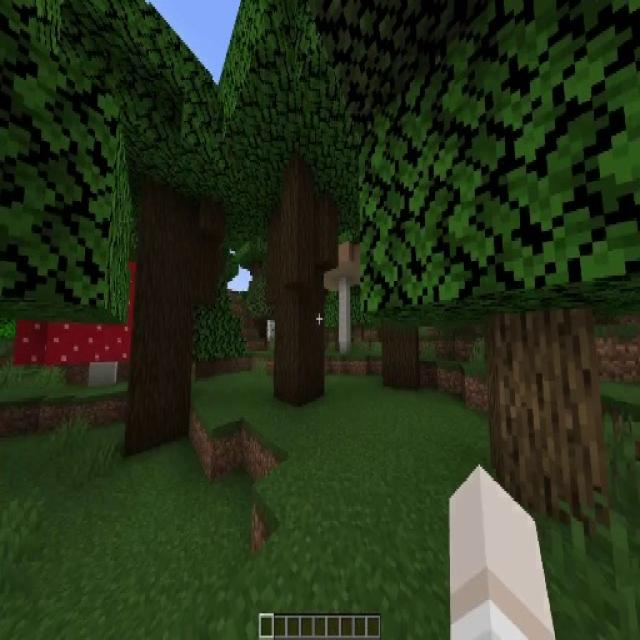dark_oak: (80, 0, 237, 454), (224, 24, 382, 406)
dark_oak_log: (128, 189, 212, 453), (276, 172, 325, 404), (382, 322, 422, 380)
oak: (357, 4, 640, 516)
oak_log: (490, 305, 611, 512)
